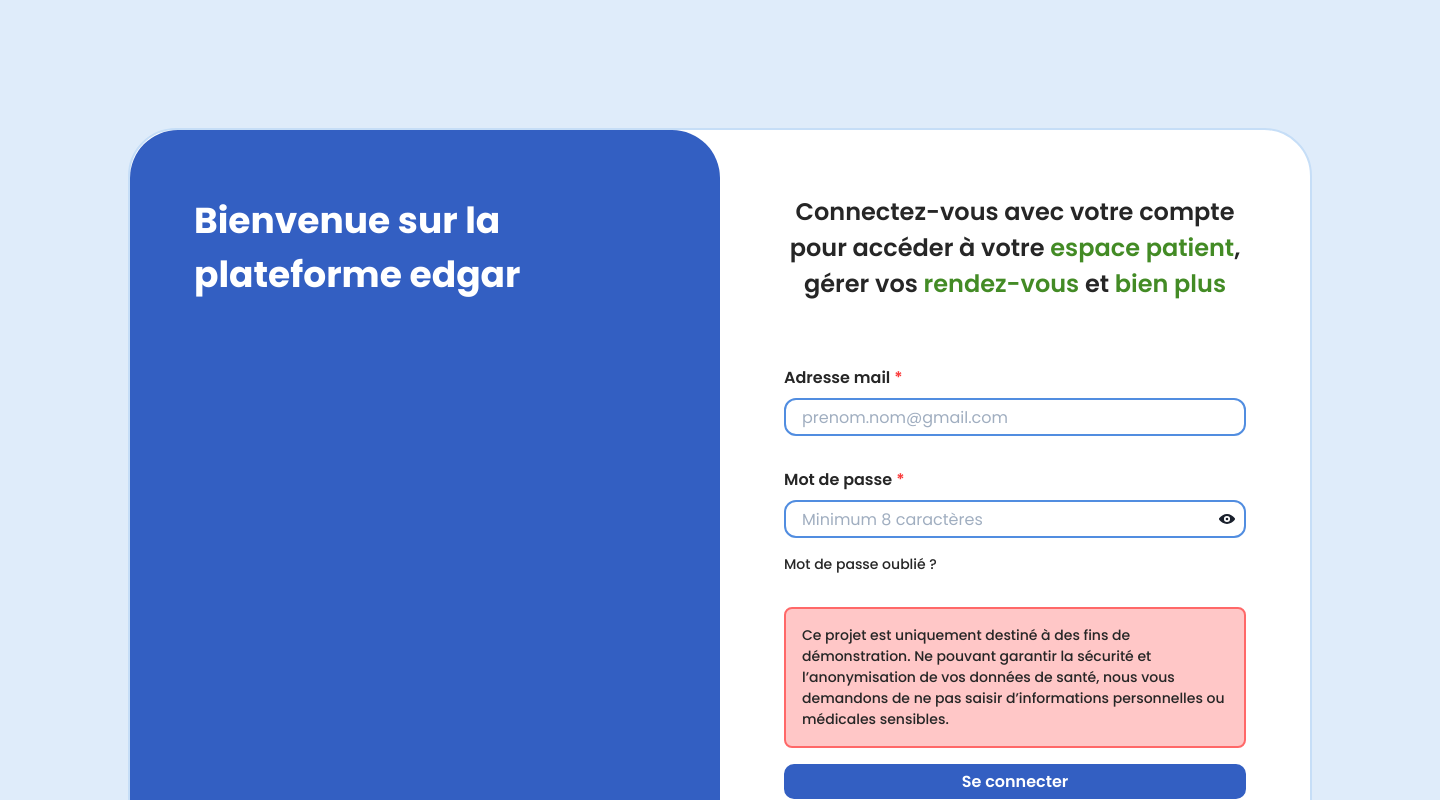
Test: Login Page tests - Desktop › Working page › Error states › Not real email address
The width and height of the screenshot is (1440, 800).
Type "prenom.nomtest.fr" into the field with id "edgar-loginPage-formEmail-input" at (1015, 417), box left=784, top=398, right=1246, bottom=436
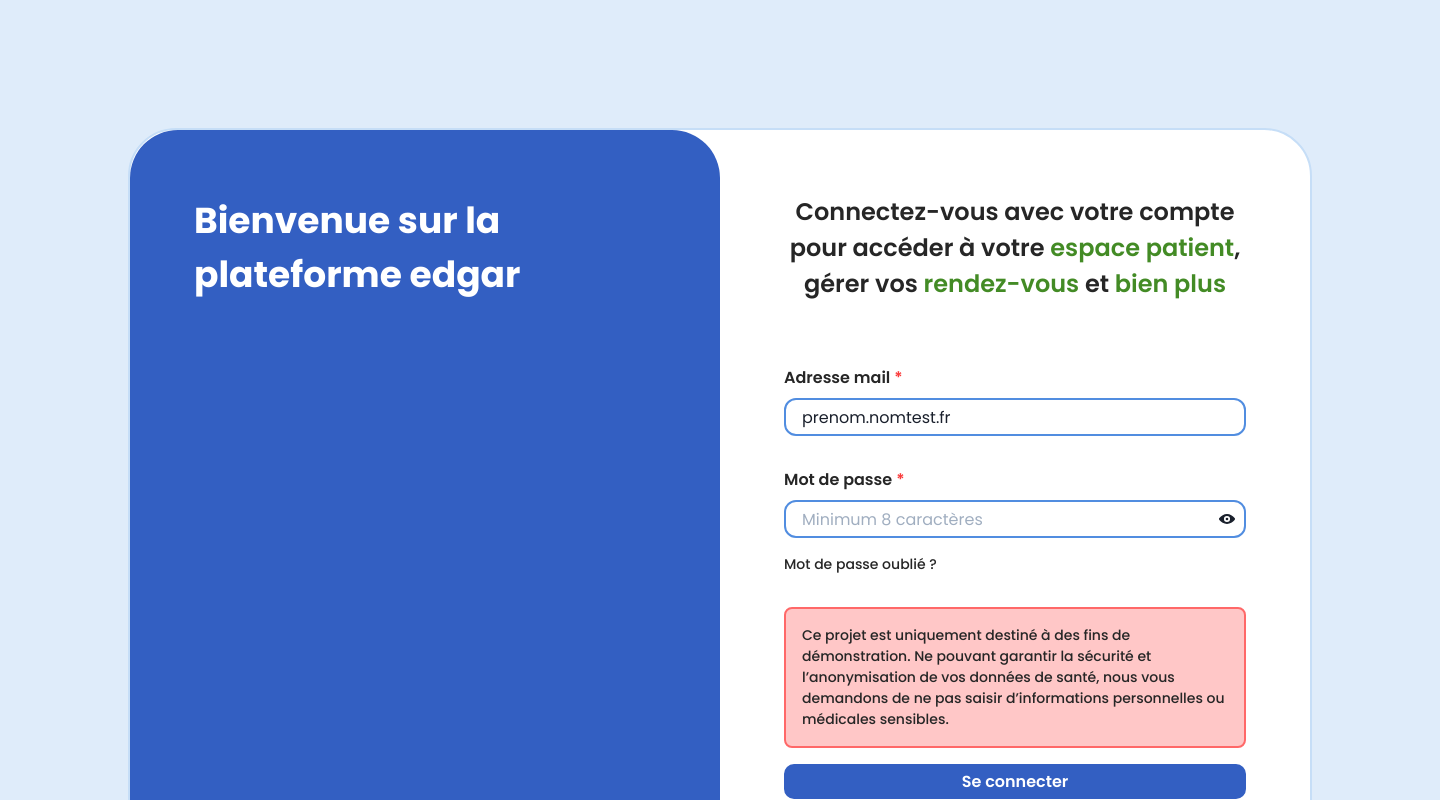
Type "testtest" into the field with id "edgar-loginPage-formEmail-input" at (1015, 417), box left=784, top=398, right=1246, bottom=436
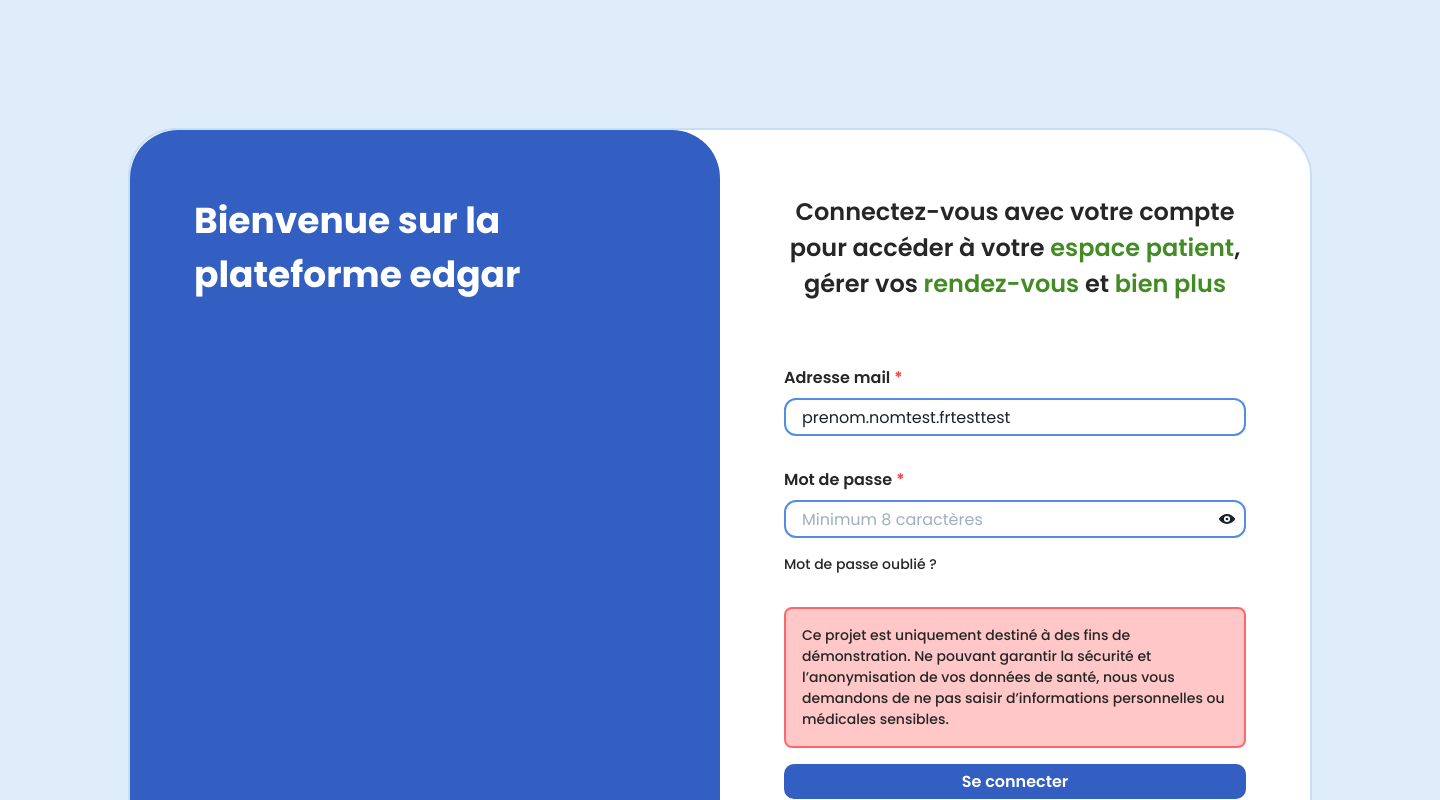
Type "testtest" into the field with id "edgar-loginPage-formEmail-input" at (1015, 417), box left=784, top=398, right=1246, bottom=436
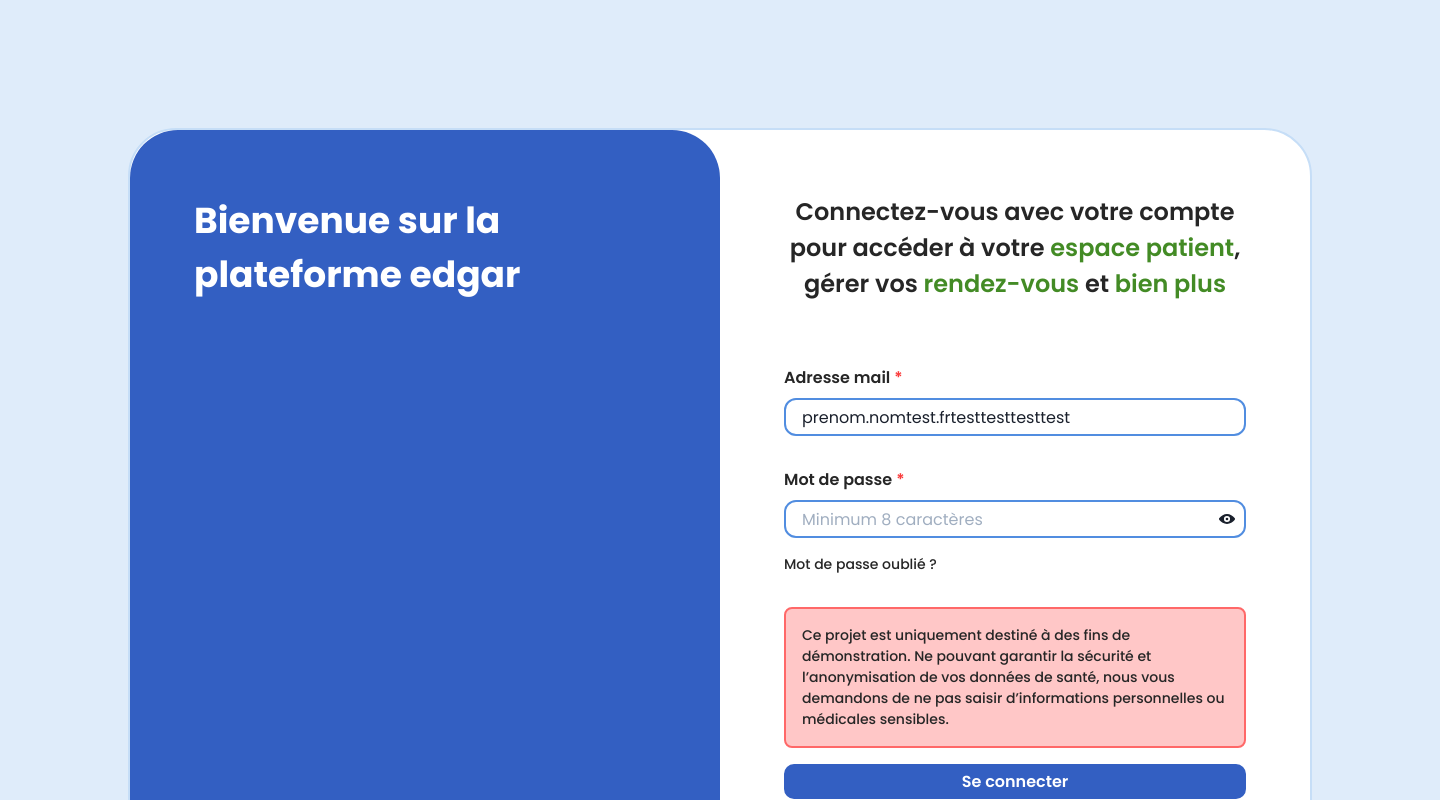
Click the button with id "edgar-loginPage-form-button" at (1015, 782), box left=784, top=764, right=1246, bottom=799
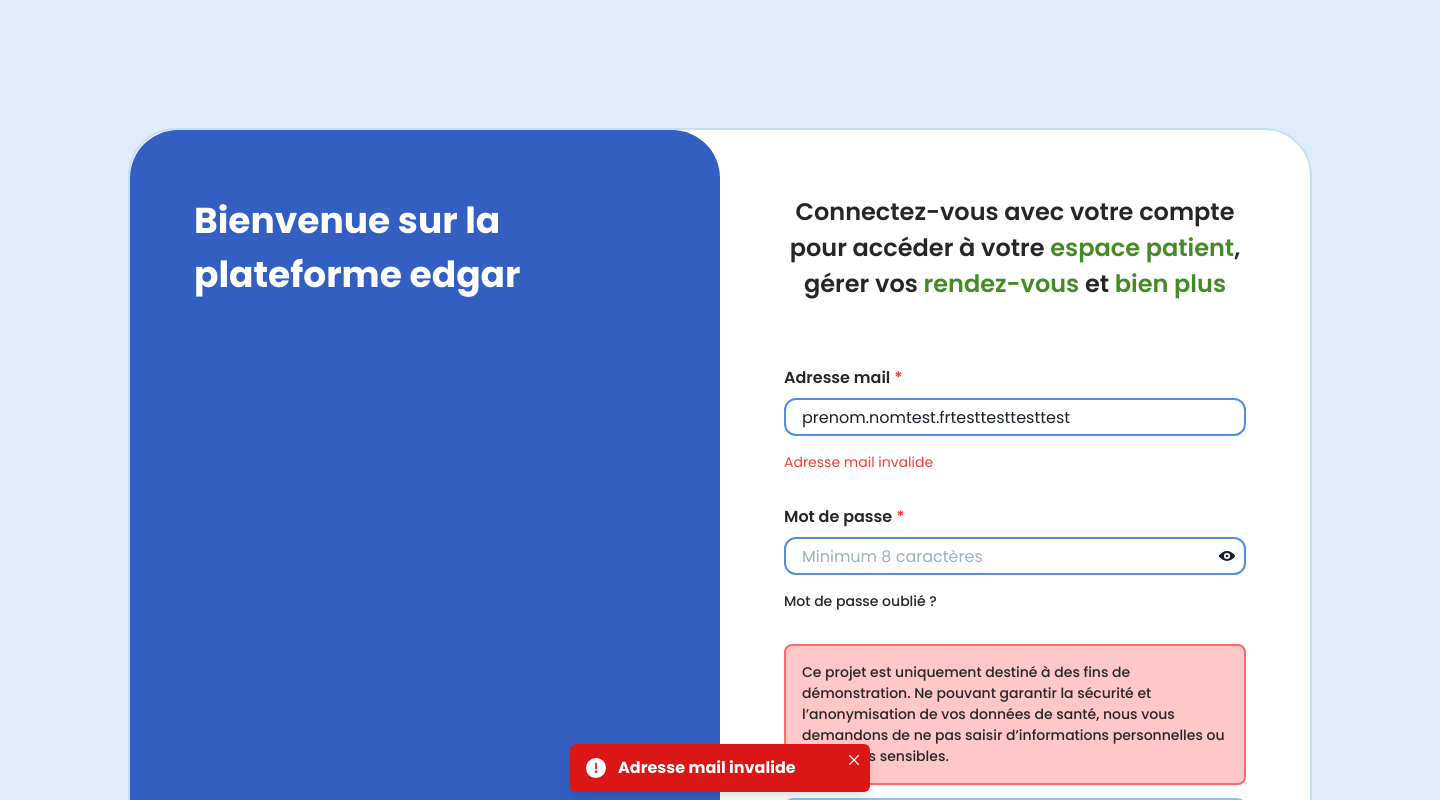
Expected: the text with id "edgar-loginPage-formEmailError-text" reads "Adresse mail invalide", left=784, top=452, right=933, bottom=473
